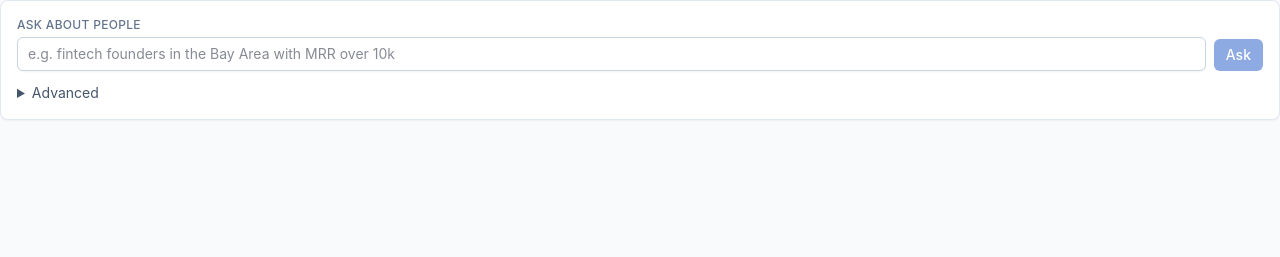
asks as a run, shows the answer with citations and the executed search
Step 1. Type "payments founders with mrr over 10k" into the field named "Question" → coordinates (611, 54), box top-left (17, 37), bottom-right (1206, 71)
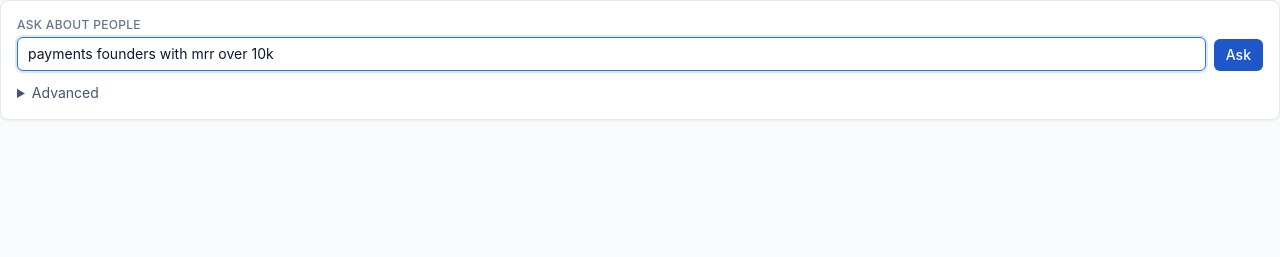
Step 2. Click the button "Ask" → coordinates (1238, 55), box top-left (1214, 39), bottom-right (1263, 71)
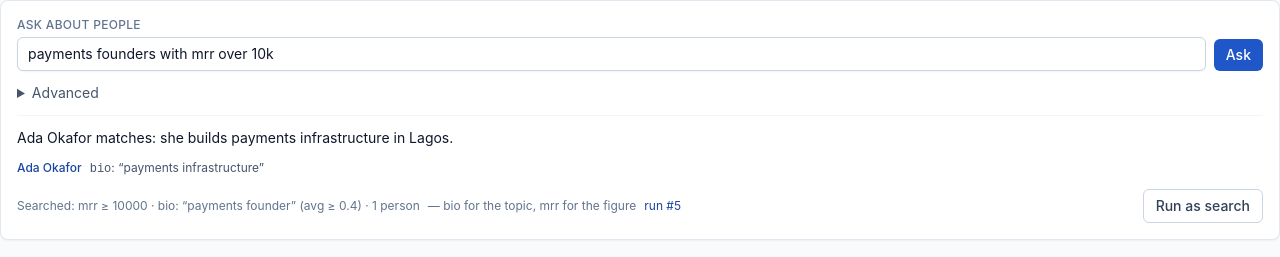
Check: the text with test id "ask-answer" shows "Ada Okafor matches", box top-left (17, 129), bottom-right (453, 146)
Check: the list named "Citations" shows "Ada Okafor", box top-left (17, 160), bottom-right (82, 175)
Check: the list named "Citations" shows "bio: “payments infrastructure”", box top-left (17, 160), bottom-right (264, 176)
